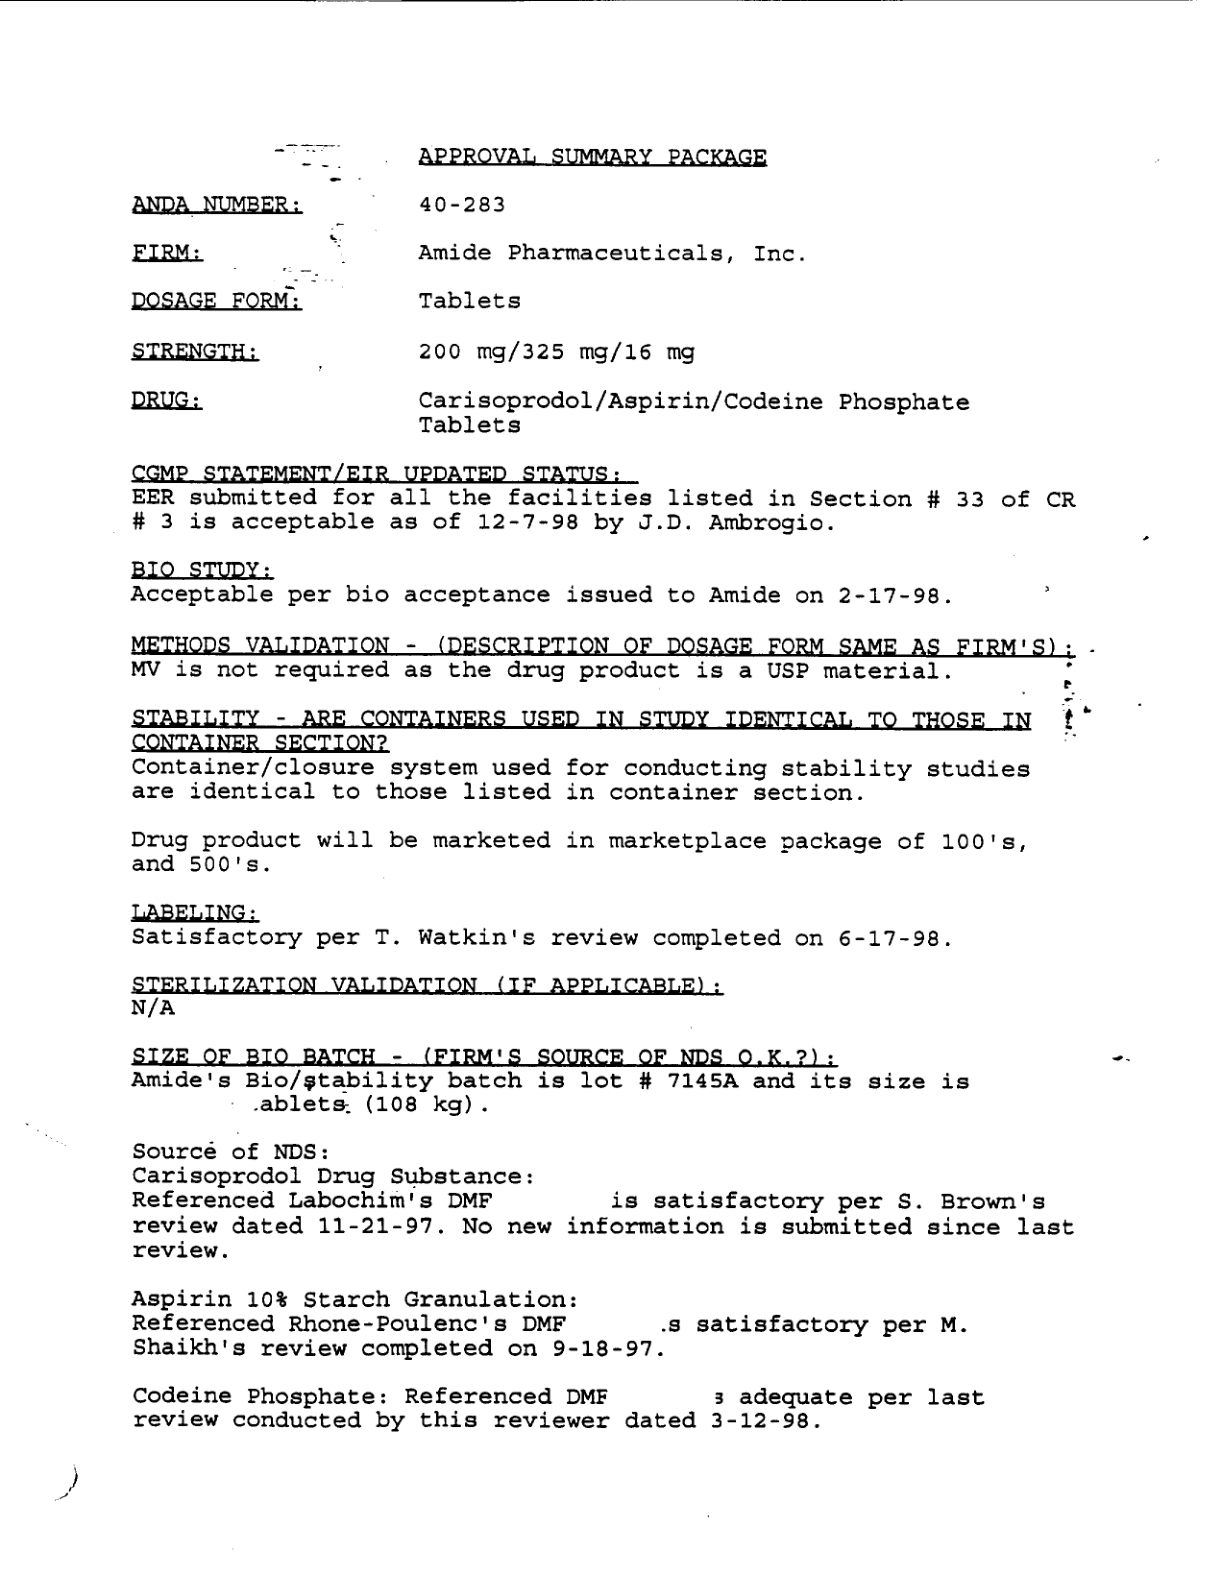nolines: (125, 191, 974, 436)
